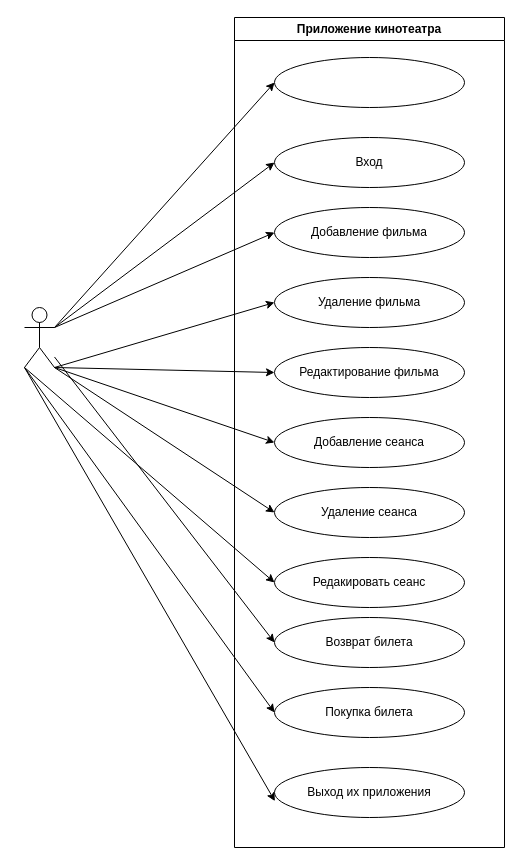
Some shapes in this 522 by 865 pixel diagram are drawn without their labels. The centre of each missing label's shape, as x and y in pixels:
"User" goes at point 39,337.
"Регистрация" goes at point 369,82.
